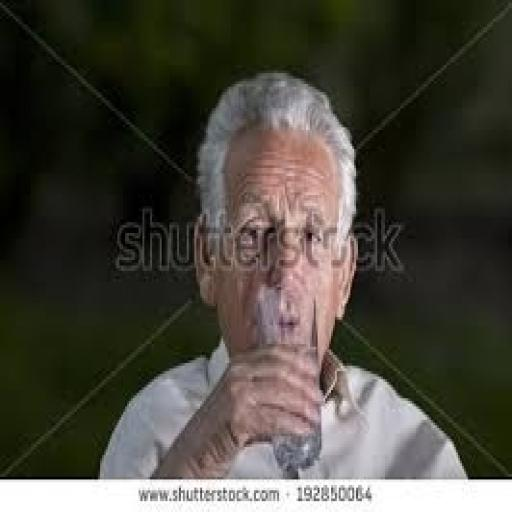drinking: (96, 68, 470, 480)
